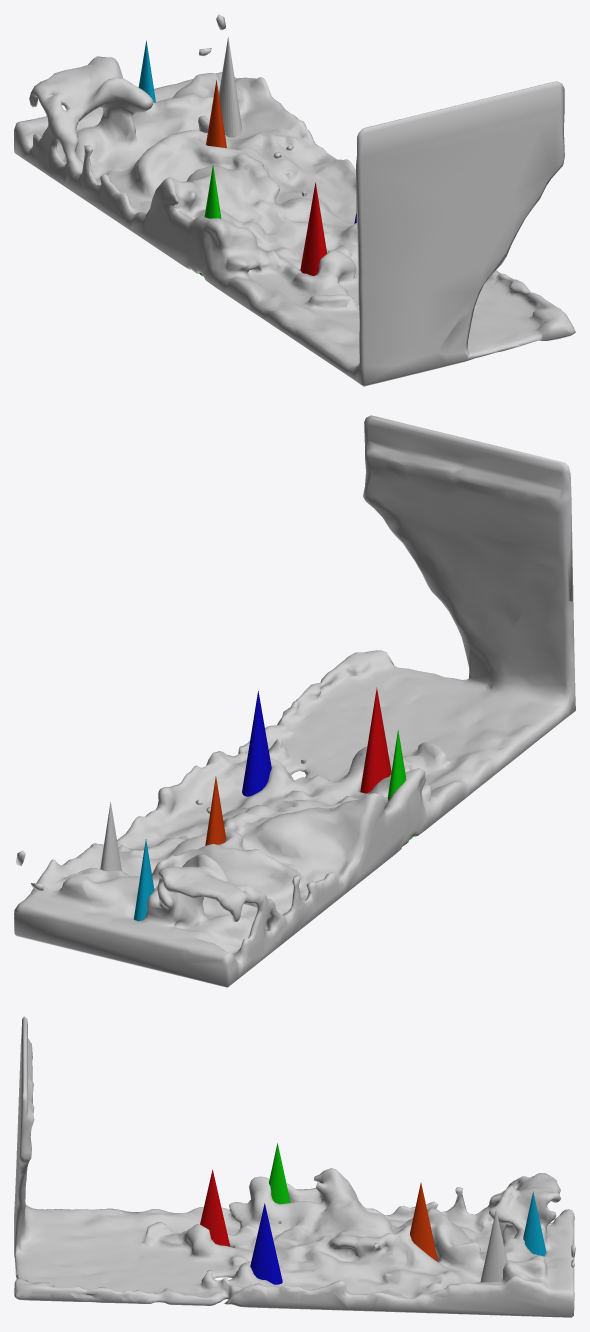
3 renders of one model, top to bottom at view 1: azimuth 30°, elevation 25°; view 2: azimuth 150°, elevation 25°; view 3: azimuth 270°, elevation 25°, orthographic. The views are drawn at different scales.
Visible parts, largest first — view 1: Liquid_Domain, 円錐, 円錐.001, 円錐.004, 円錐.003, 円錐.005; view 2: Liquid_Domain, 円錐.002, 円錐.001, 円錐.005, 円錐, 円錐.004; view 3: Liquid_Domain, 円錐.002, 円錐.001, 円錐, 円錐.004, 円錐.005, 円錐.003.
Boxes of the visible parts, box(x1,y1,x2,y2) form: Liquid_Domain: box(14, 14, 575, 386); 円錐: box(219, 37, 242, 137); 円錐.001: box(300, 182, 326, 275); 円錐.004: box(206, 80, 226, 147); 円錐.003: box(199, 164, 221, 275); 円錐.005: box(138, 40, 155, 102); Liquid_Domain: box(14, 415, 575, 987); 円錐.002: box(242, 691, 271, 796); 円錐.001: box(360, 687, 391, 793); 円錐.005: box(134, 839, 154, 921); 円錐: box(100, 802, 121, 871); 円錐.004: box(205, 776, 225, 845); Liquid_Domain: box(14, 1016, 575, 1317); 円錐.002: box(250, 1203, 282, 1284); 円錐.001: box(200, 1169, 230, 1246); 円錐: box(480, 1209, 507, 1282); 円錐.004: box(410, 1182, 438, 1261); 円錐.005: box(523, 1191, 546, 1256); 円錐.003: box(269, 1143, 290, 1204).
Size of the model in its own units: 129 by 158 by 362.
